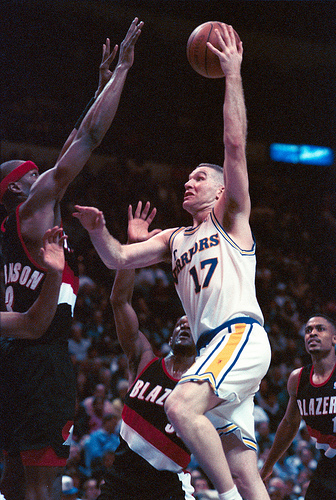basketball: (187, 22, 240, 79)
